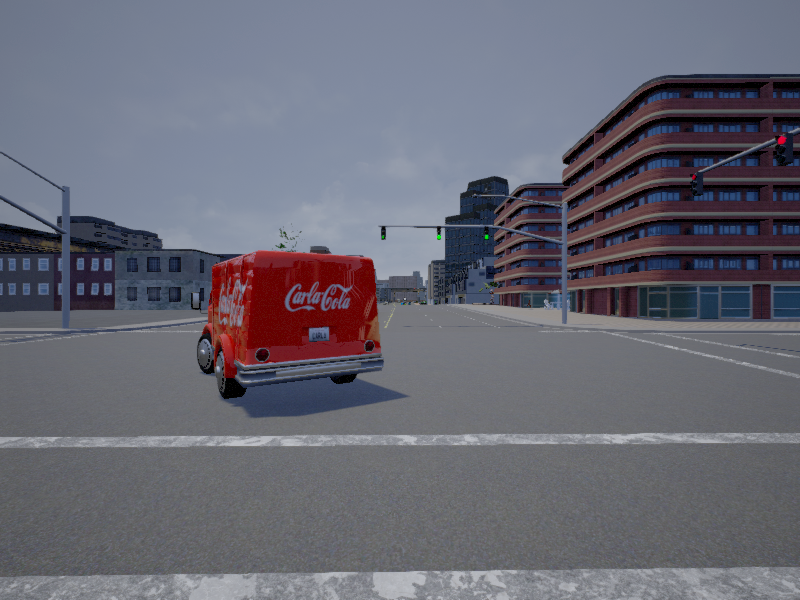Benign: (195, 251, 384, 399)
